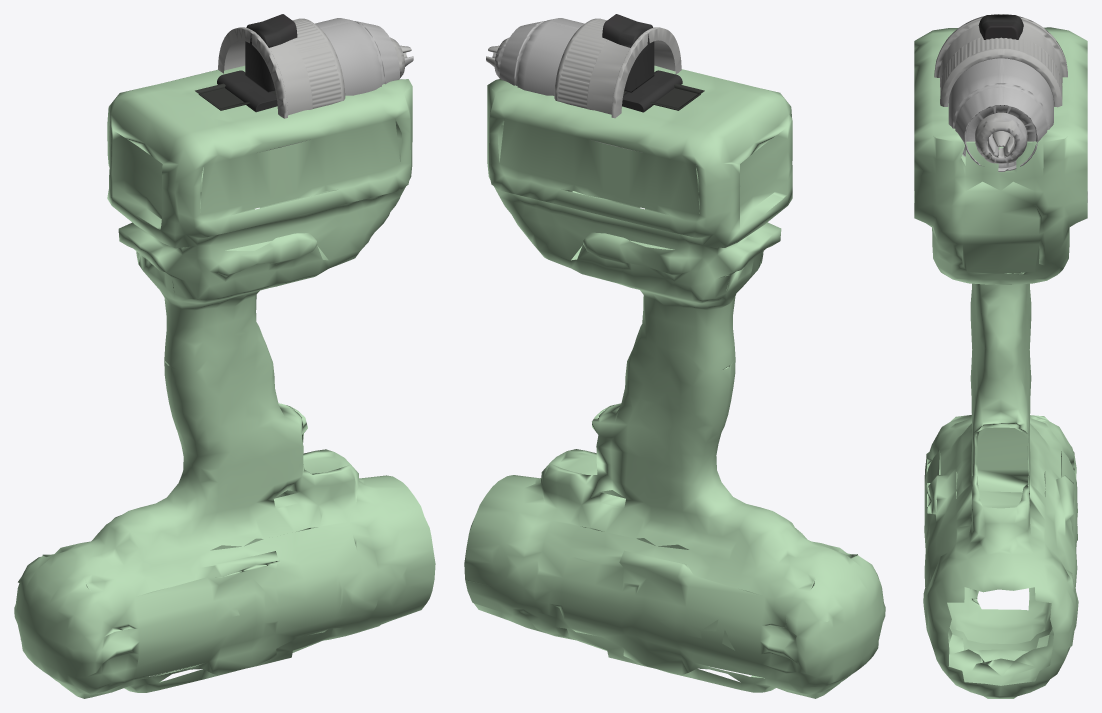
File: powertool_drill_a01.glb
3 views of the same model, side by side, from view 1: azimuth 30°, elevation 25°; view 2: azimuth 150°, elevation 25°; view 3: azimuth 270°, elevation 25° (orthographic).
Visible parts, largest first — view 1: prop; view 2: prop; view 3: prop.
Part boxes in pixels (bbox=[...]): prop: bbox=[14, 14, 435, 698]; prop: bbox=[464, 14, 885, 698]; prop: bbox=[914, 14, 1087, 698].
Size of the model in its own units: 0.5101 by 0.8137 by 0.2026.
Materials: 5 (4 with a texture image).
